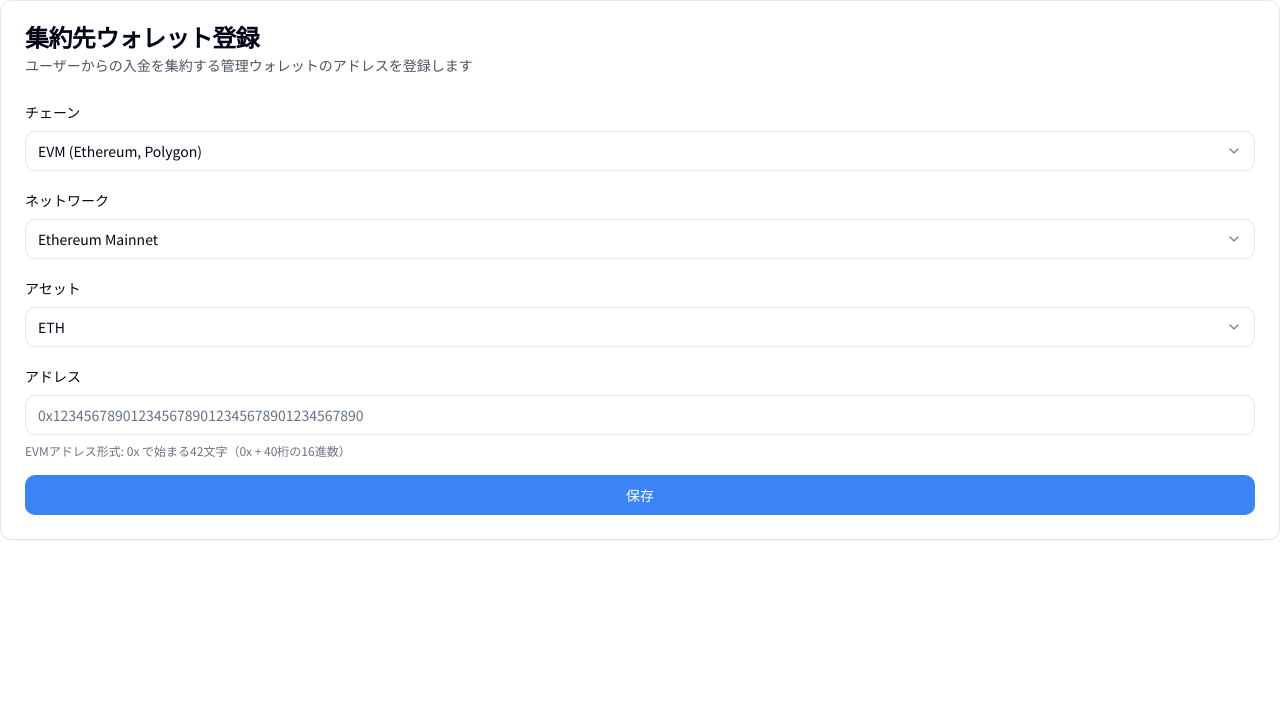
Scenario: AdminWalletForm › アドレス検証 › EVM: 不正なアドレス形式でエラーメッセージが表示される
Type "invalid-address" into the field labelled "アドレス" at [640, 415], box [25,395,1255,435]
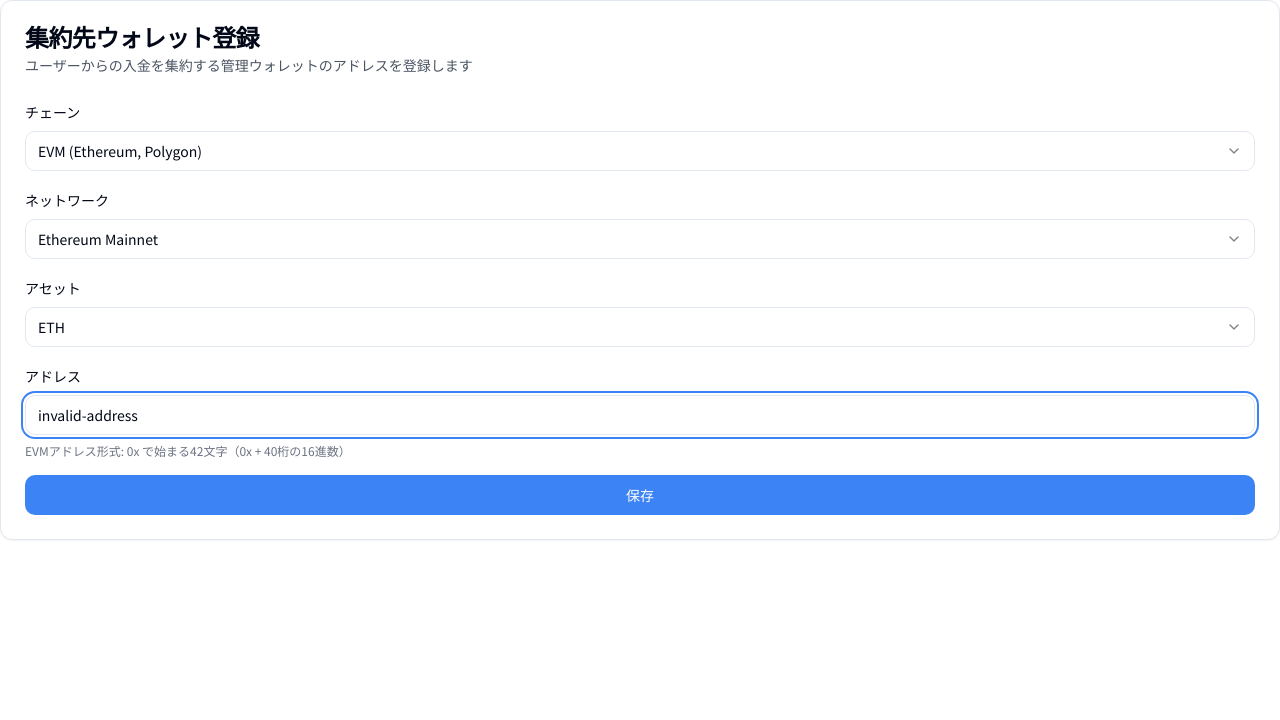
Click the button "保存" at [640, 495], box [25,475,1255,515]
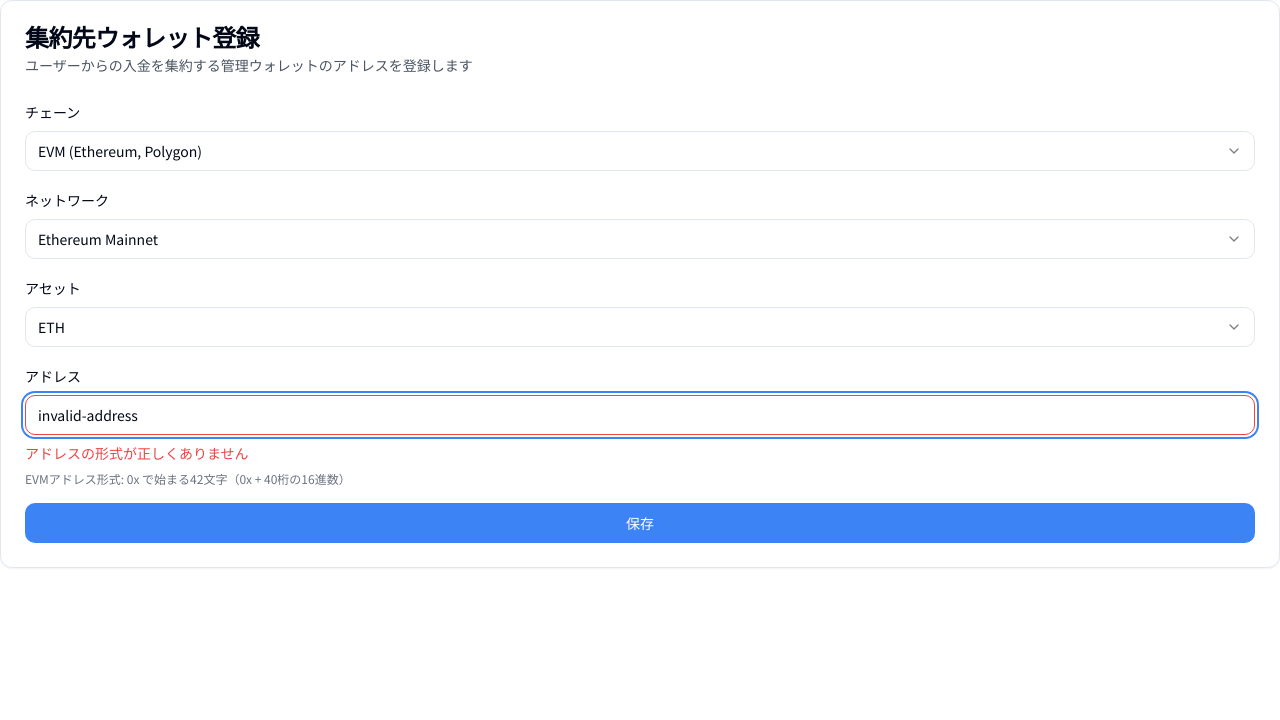
Result: the text "アドレスの形式が正しくありません" is shown at [25,443,249,463]
